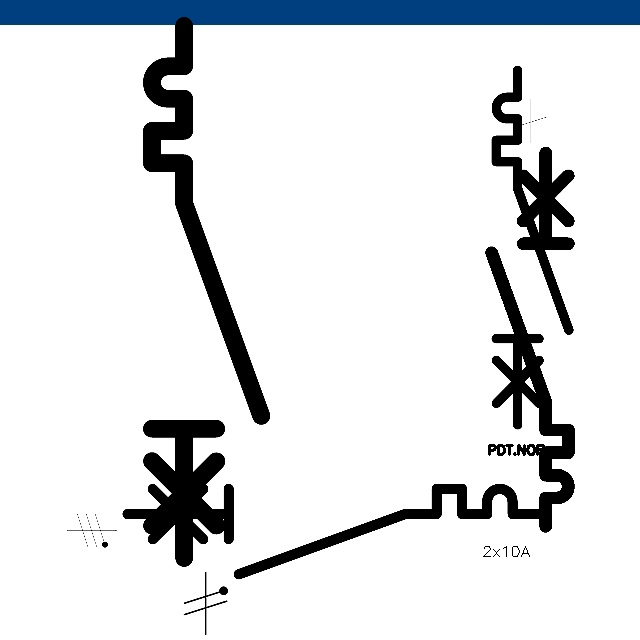interruptor_termomagnetico: (138, 12, 275, 571), (116, 478, 555, 585), (482, 143, 578, 535), (487, 61, 578, 434)
